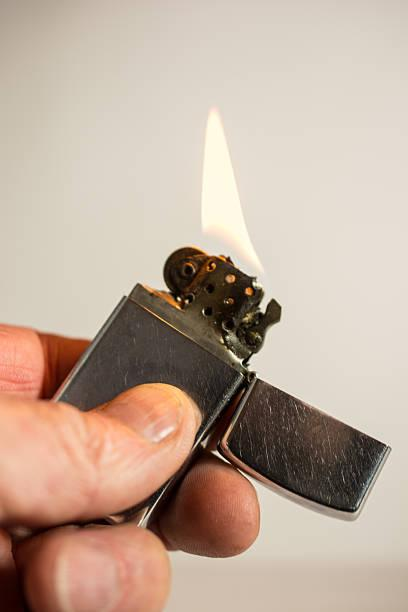Fire: (196, 103, 264, 269)
